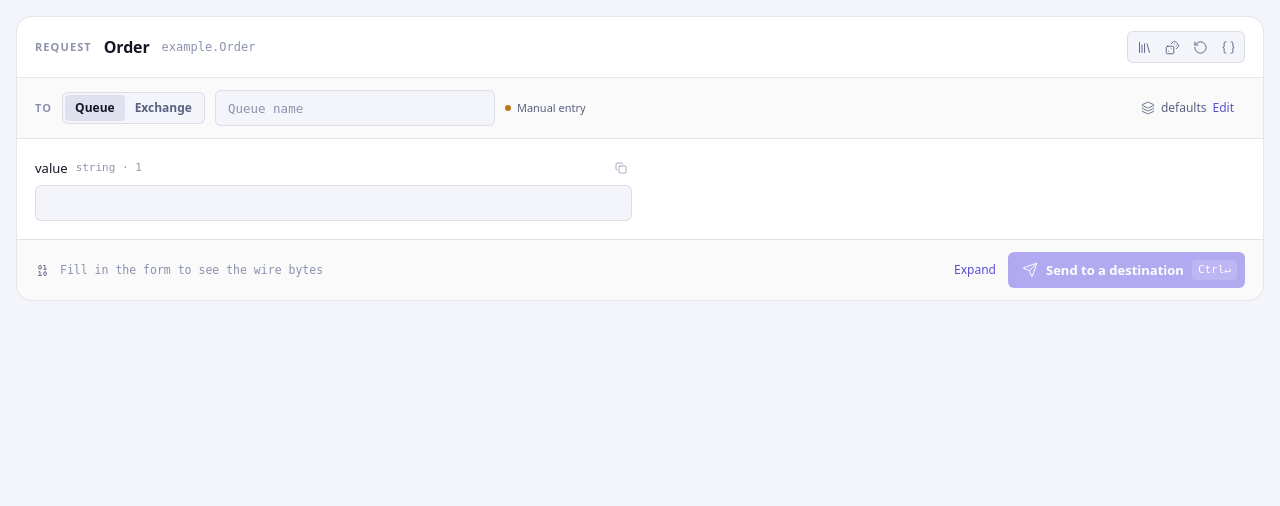
Test: destination and footer › opens the properties section from the summary button
Expected: the field labelled "Content type" is not shown
Click the button with test id "properties-summary".
click(1187, 108)  # box 1130,94 -> 1245,122
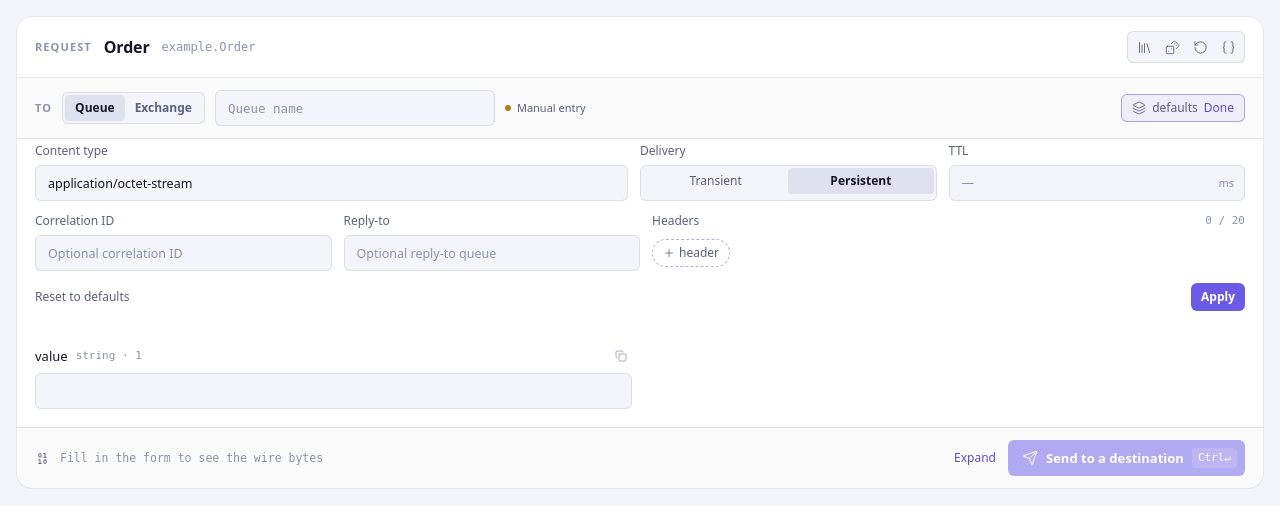
Expected: the field labelled "Content type" is shown, 35,165 -> 628,201
